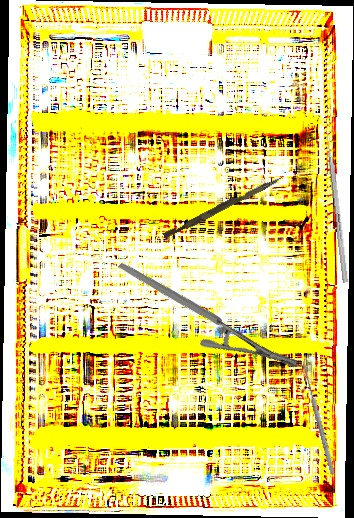Hook Surgical: (296, 362, 337, 477)
Needle Holder: (117, 217, 301, 412)
Pusher: (162, 171, 284, 242), (323, 121, 349, 283)
